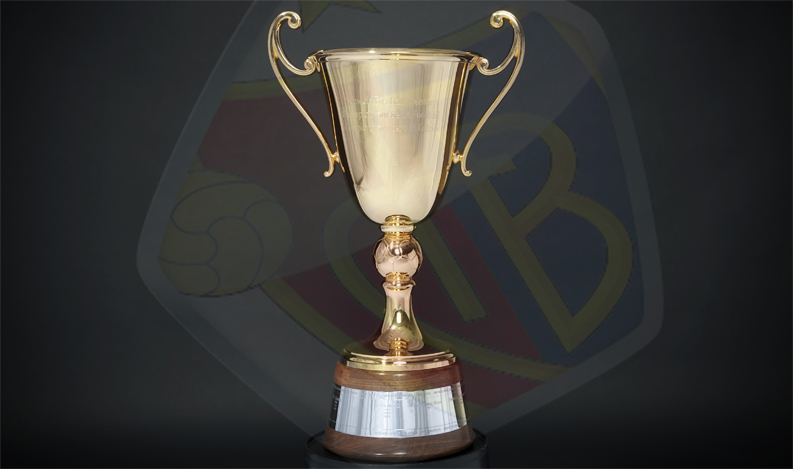trophy: (266, 8, 530, 469)
